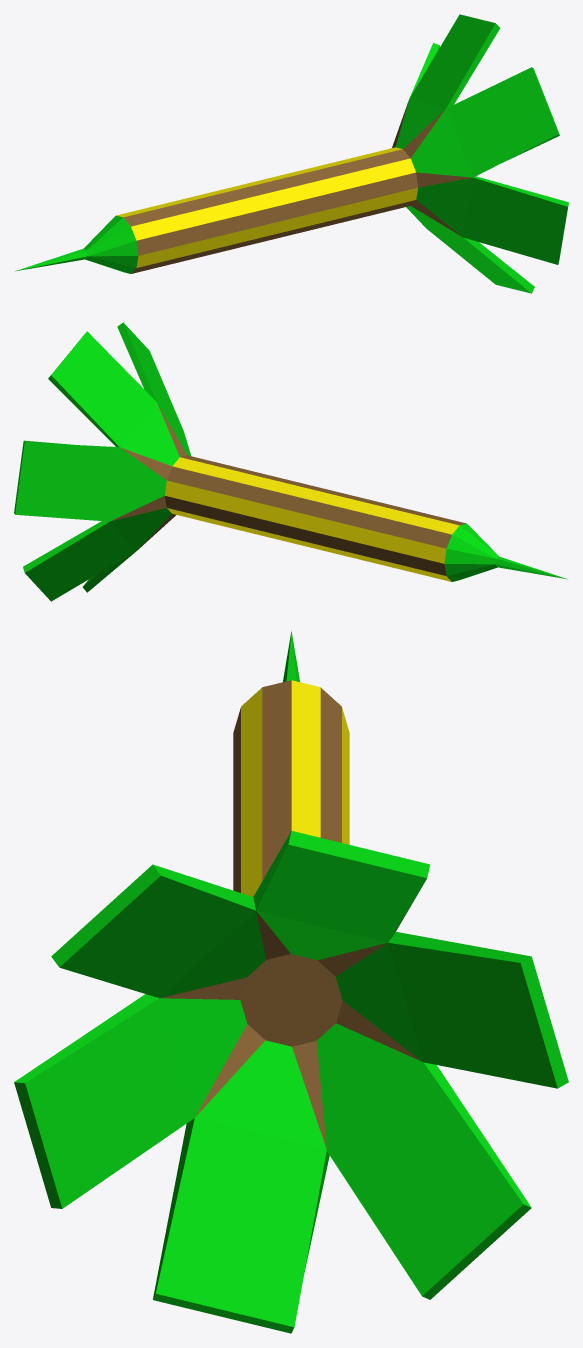
The model's file is poisonedDart.obj.
The picture shows the model from 3 angles, top to bottom: view 1: azimuth 30°, elevation 25°; view 2: azimuth 150°, elevation 25°; view 3: azimuth 270°, elevation 25°; orthographic projection. The views are drawn at different scales.
Visible parts, largest first — view 1: poison_Cylinder.003; view 2: poison_Cylinder.003; view 3: poison_Cylinder.003.
Part boxes in pixels (<box>): poison_Cylinder.003: <box>15,14,568,293</box>; poison_Cylinder.003: <box>14,322,567,601</box>; poison_Cylinder.003: <box>14,630,568,1333</box>.
Size of the model in its own units: 9.31 by 4.79 by 4.79.
Materials: 1 (1 with a texture image).
